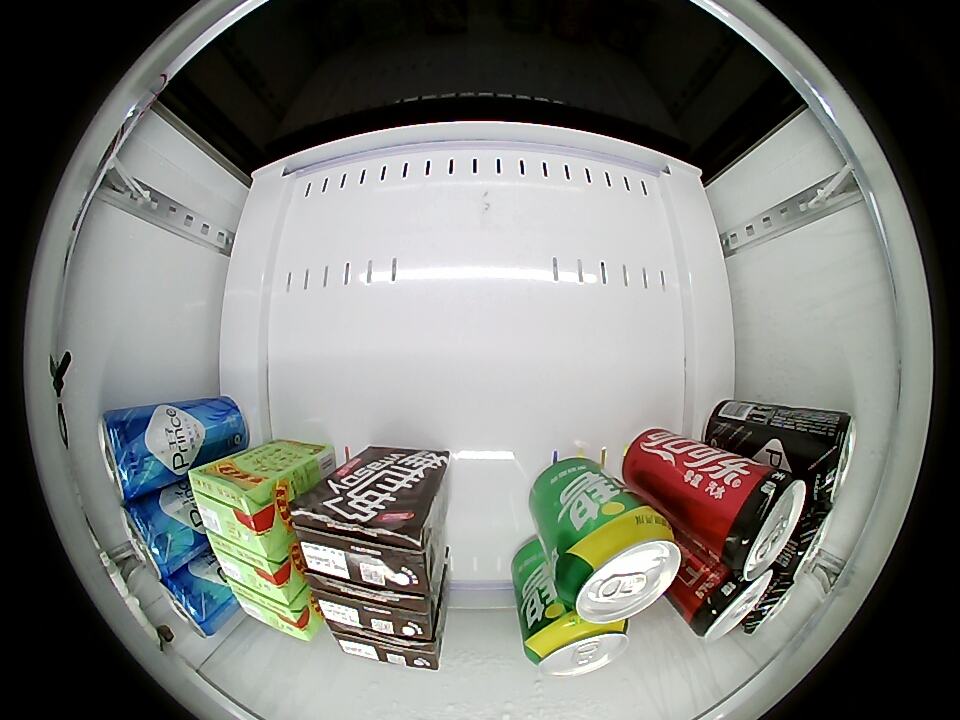lingdukele: (709, 462, 807, 580), (683, 563, 773, 641)
qingdaowangzi-1: (797, 411, 856, 505), (777, 504, 833, 578), (745, 574, 798, 633)
qingdaowangzi-2: (98, 407, 159, 502), (120, 495, 189, 578), (158, 566, 227, 638)
wanglaoji: (187, 460, 290, 559), (208, 533, 303, 606), (226, 579, 321, 643)
weitanai2: (292, 490, 434, 592), (310, 578, 434, 639), (328, 626, 443, 669)
xuebi2: (554, 506, 682, 624), (523, 612, 630, 678)
